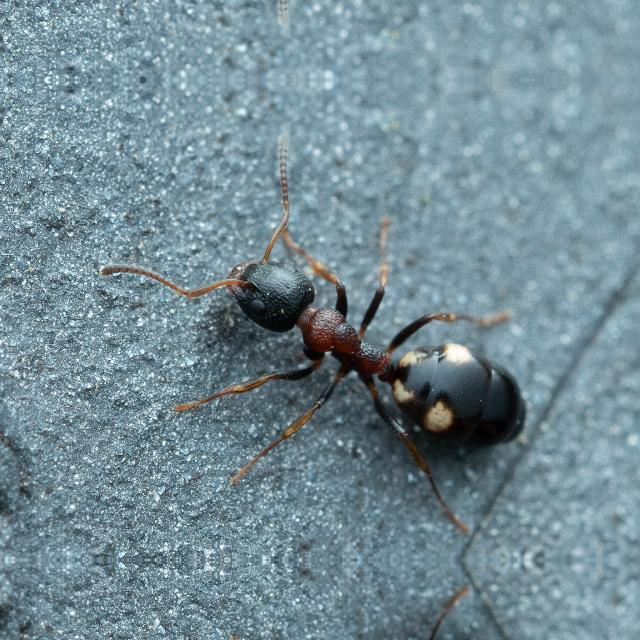Dolichoderus: (158, 212, 570, 488)
